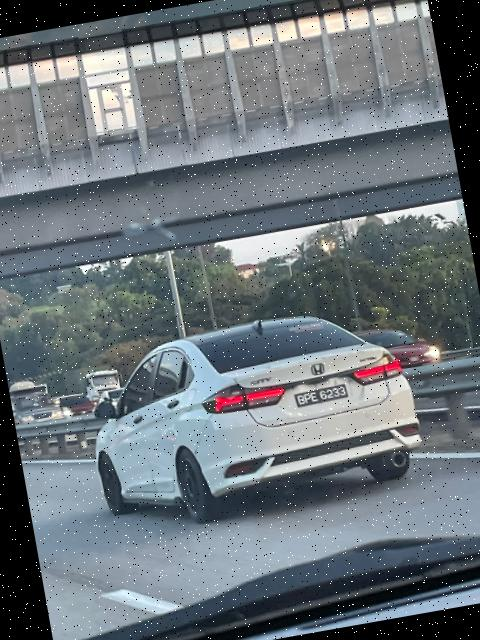License_Plate: (292, 381, 359, 414)
car: (71, 295, 431, 535)
